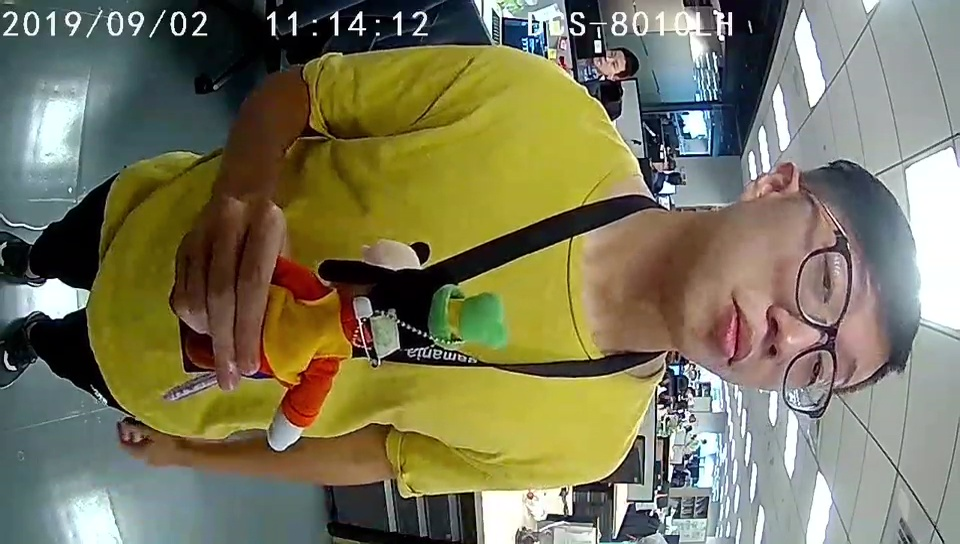goofy: (269, 255, 502, 453)
